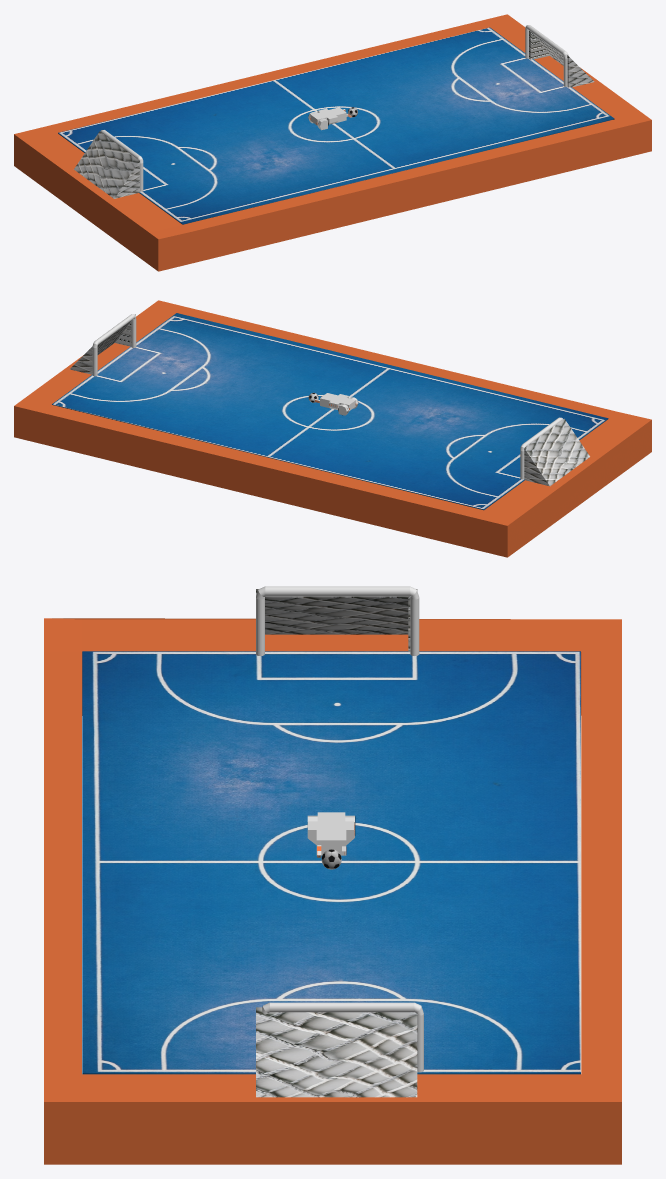
Rendered from ExportedBlenderFBXFile.fbx.
3 views of the same model, one above another, from view 1: azimuth 30°, elevation 25°; view 2: azimuth 150°, elevation 25°; view 3: azimuth 270°, elevation 25° (orthographic). The views are drawn at different scales.
Parts seen in each view (by area): view 1: Field, OutField, Cube.012, Cube.013, body-collieder, enemyGoal; view 2: Field, OutField, Cube.012, Cube.013, enemyGoal, body-collieder, Goal; view 3: Field, OutField, Cube.013, Cube.012, Goal, enemyGoal, body-collieder.
Boxes of the visible parts, bbox=[...] form: Field: bbox=[58, 27, 614, 224]; OutField: bbox=[14, 14, 651, 271]; Cube.012: bbox=[74, 131, 139, 198]; Cube.013: bbox=[529, 31, 594, 87]; body-collieder: bbox=[308, 107, 351, 130]; enemyGoal: bbox=[525, 25, 568, 86]; Field: bbox=[52, 313, 608, 510]; OutField: bbox=[14, 300, 651, 557]; Cube.012: bbox=[524, 418, 589, 486]; Cube.013: bbox=[70, 314, 135, 374]; enemyGoal: bbox=[92, 314, 136, 376]; body-collieder: bbox=[314, 393, 358, 415]; Goal: bbox=[520, 417, 563, 479]; Field: bbox=[82, 651, 580, 1074]; OutField: bbox=[44, 618, 621, 1164]; Cube.013: bbox=[256, 1007, 417, 1097]; Cube.012: bbox=[256, 589, 417, 651]; Goal: bbox=[256, 586, 419, 655]; enemyGoal: bbox=[262, 1002, 423, 1072]; body-collieder: bbox=[307, 812, 354, 857].
Size of the model in its own units: 3381 by 432 by 1714.
